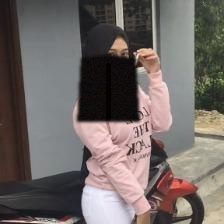Cadar_Niqab: (77, 21, 139, 121)
